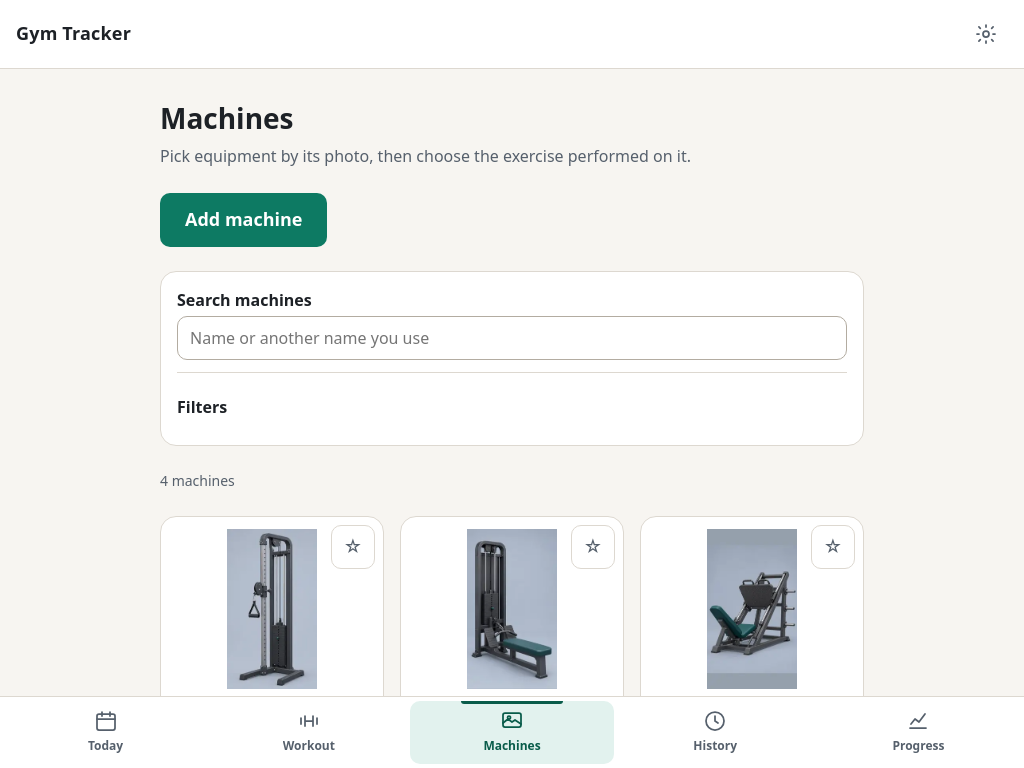
it: the low cable row station › explains what a number logged here means
What coordinates should you click on to do the following:
click the link with aria-label "Open Low cable row station"
I would click on:
 (512, 623)
Its box is 413,529 -> 611,717.
(page scrolled)
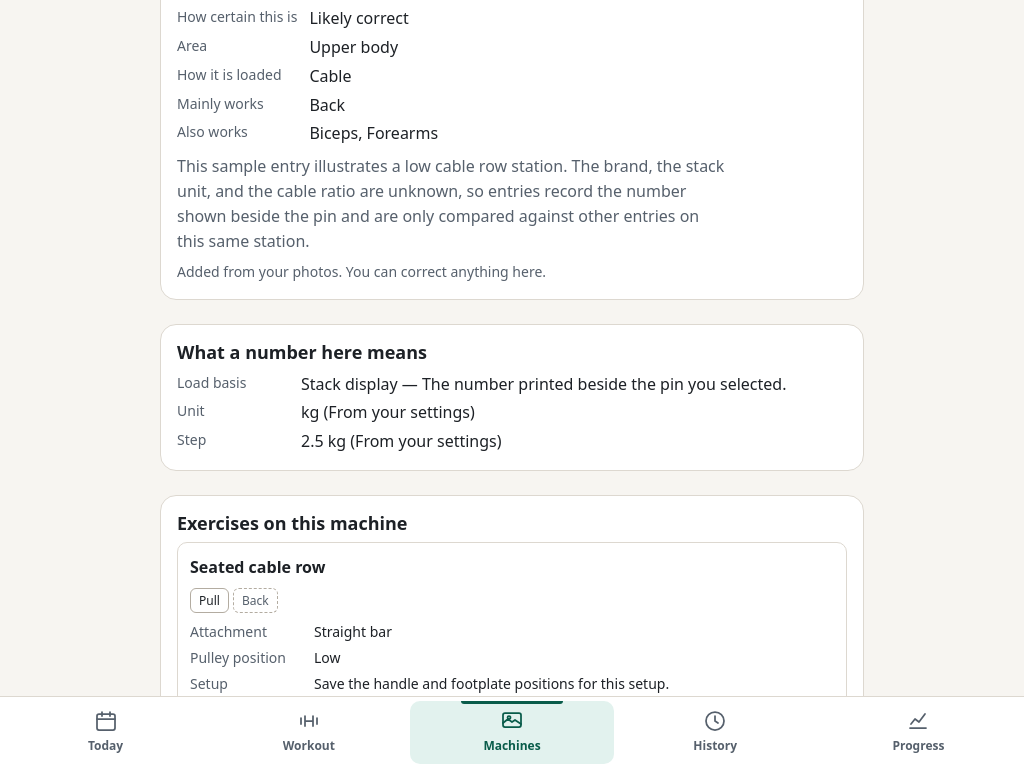
Result: the text "Stack display — The number printed beside the pin you selected." is shown at 301,372 -> 847,396
